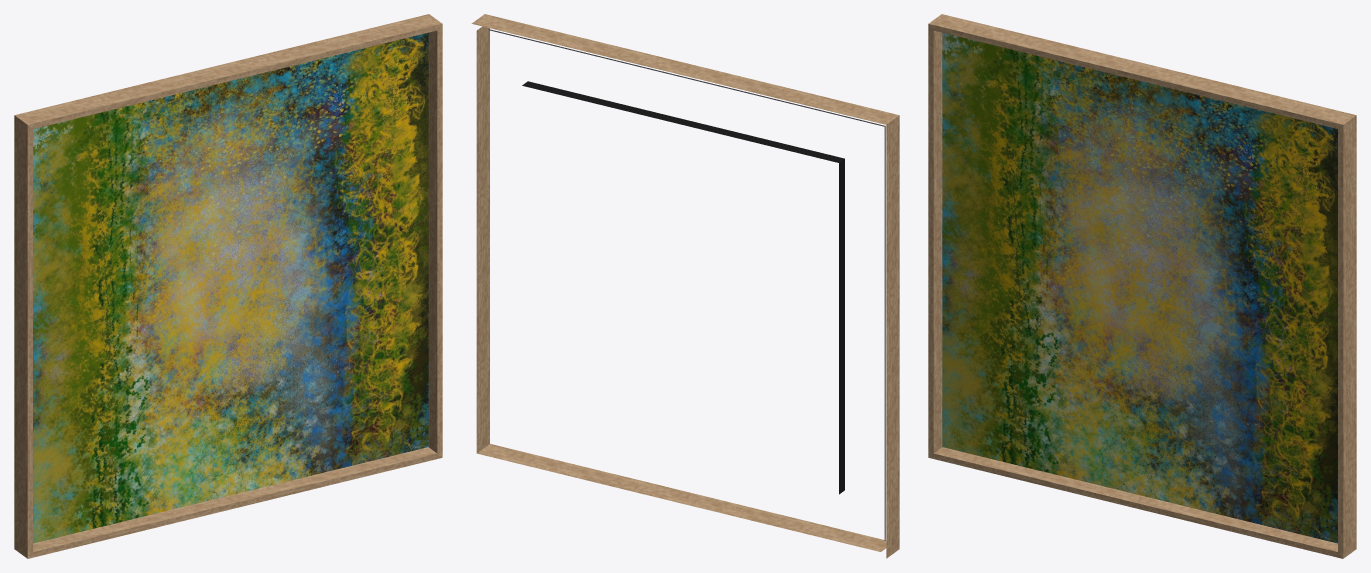
The model's file is va243_moyen_caisse-chene.glb.
3 renders of one model, left to right at view 1: azimuth 30°, elevation 25°; view 2: azimuth 150°, elevation 25°; view 3: azimuth 330°, elevation 25°, orthographic.
Visible parts, largest first — view 1: va243_moyen_caisse-chene; view 2: va243_moyen_caisse-chene; view 3: va243_moyen_caisse-chene.
Boxes of the visible parts, x1,y1,x2,y2 form: va243_moyen_caisse-chene: (14,14,442,558); va243_moyen_caisse-chene: (471,14,899,558); va243_moyen_caisse-chene: (928,14,1356,558).
Size of the model in its own units: 0.628 by 0.628 by 0.035.
4 materials, 2 textured.
